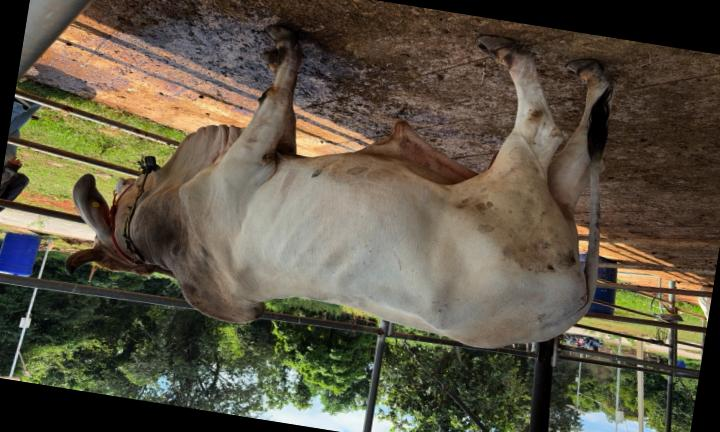Brahman: (66, 26, 615, 347)
